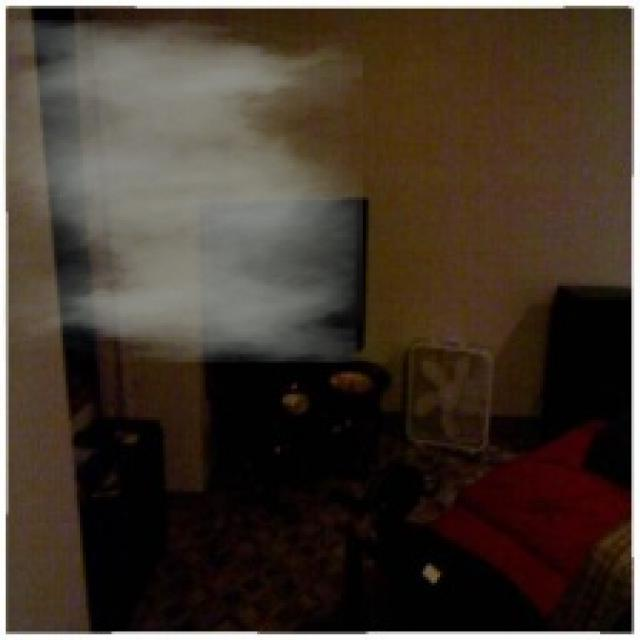smoke: (3, 20, 363, 363)
